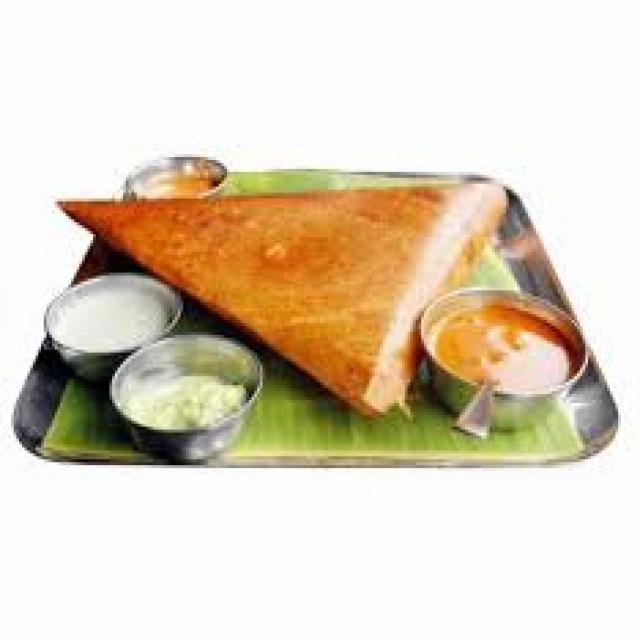DOSA: (59, 185, 511, 430)
